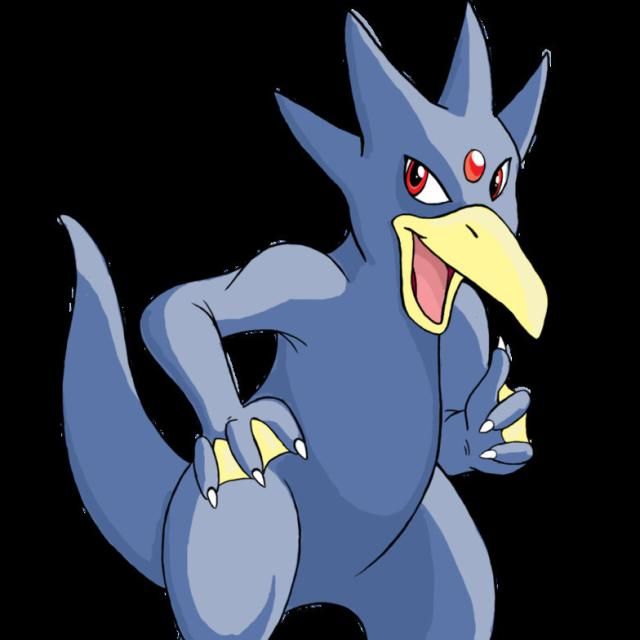Golduck: (127, 25, 570, 640)
